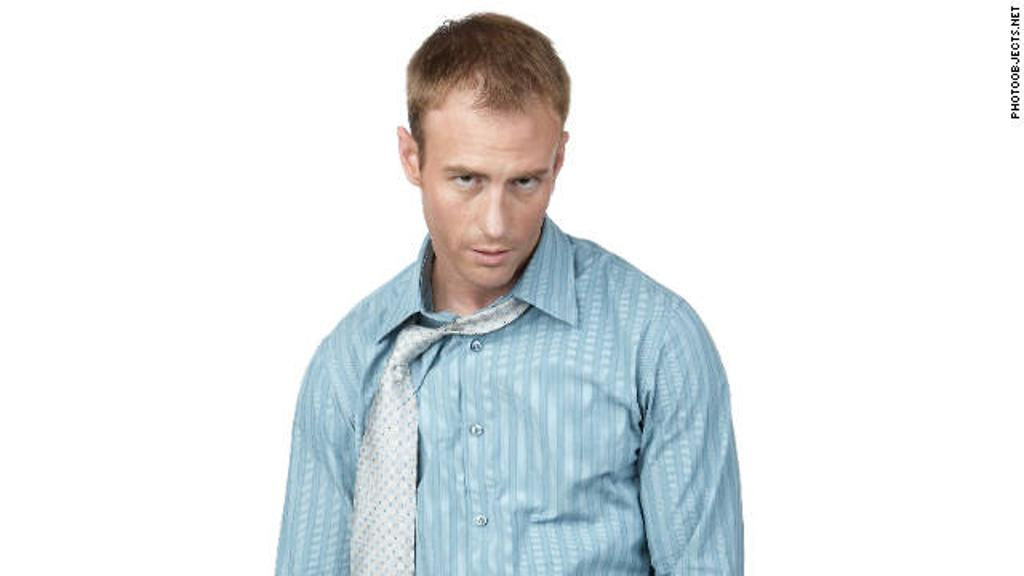face: (428, 96, 550, 276)
